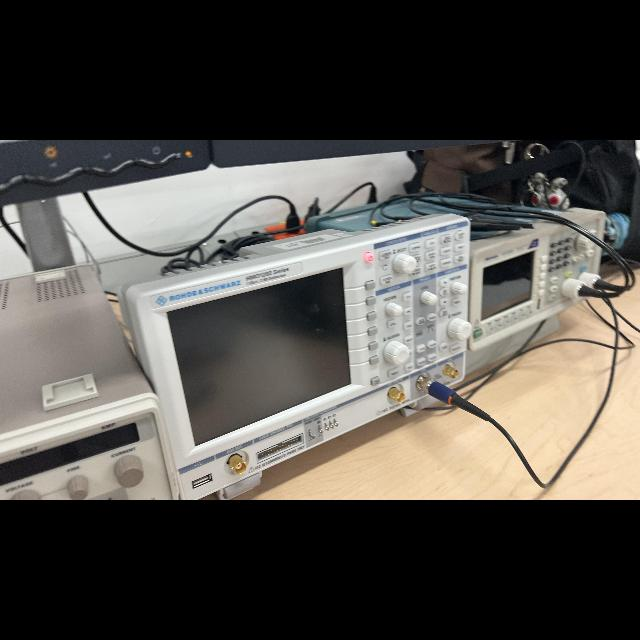Digital-Oscilloscope: (120, 214, 470, 499)
